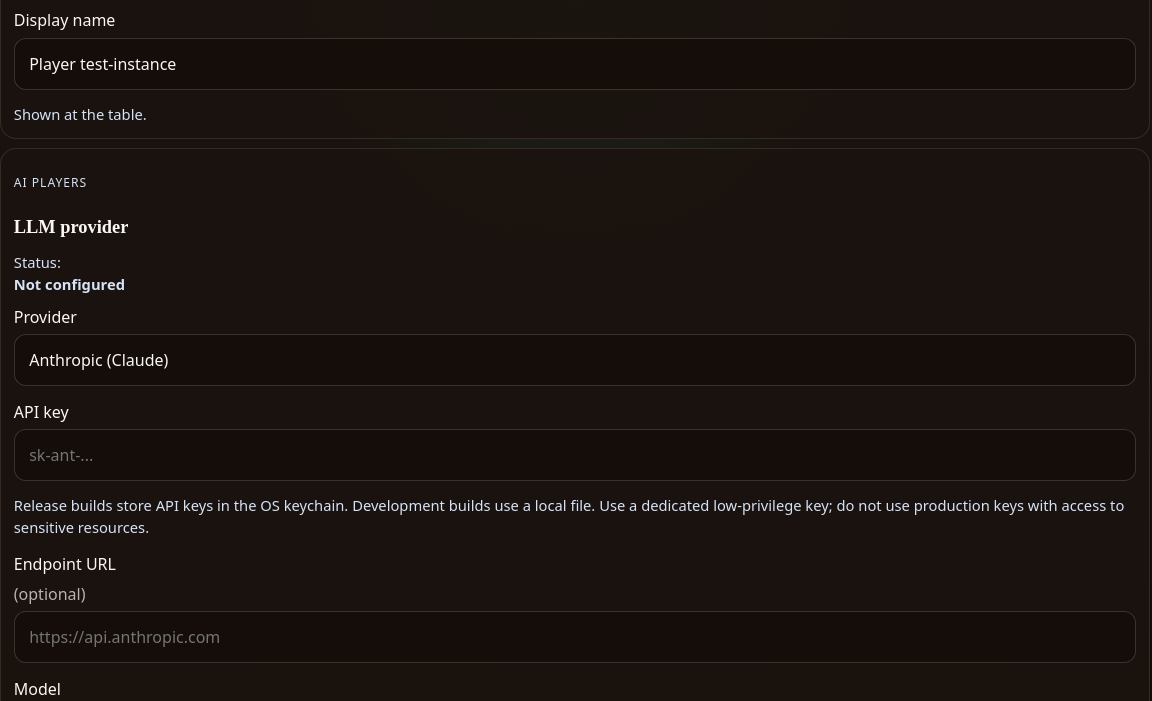
Test: DeviceSettingsScreen › shows error when setLlmProviderConfig fails
(page scrolled)
Use ollama (no api key needed) so Save is not disabled.
Select "Ollama (local)" in the dropdown named "LLM provider" at (575, 360), box left=14, top=334, right=1136, bottom=386
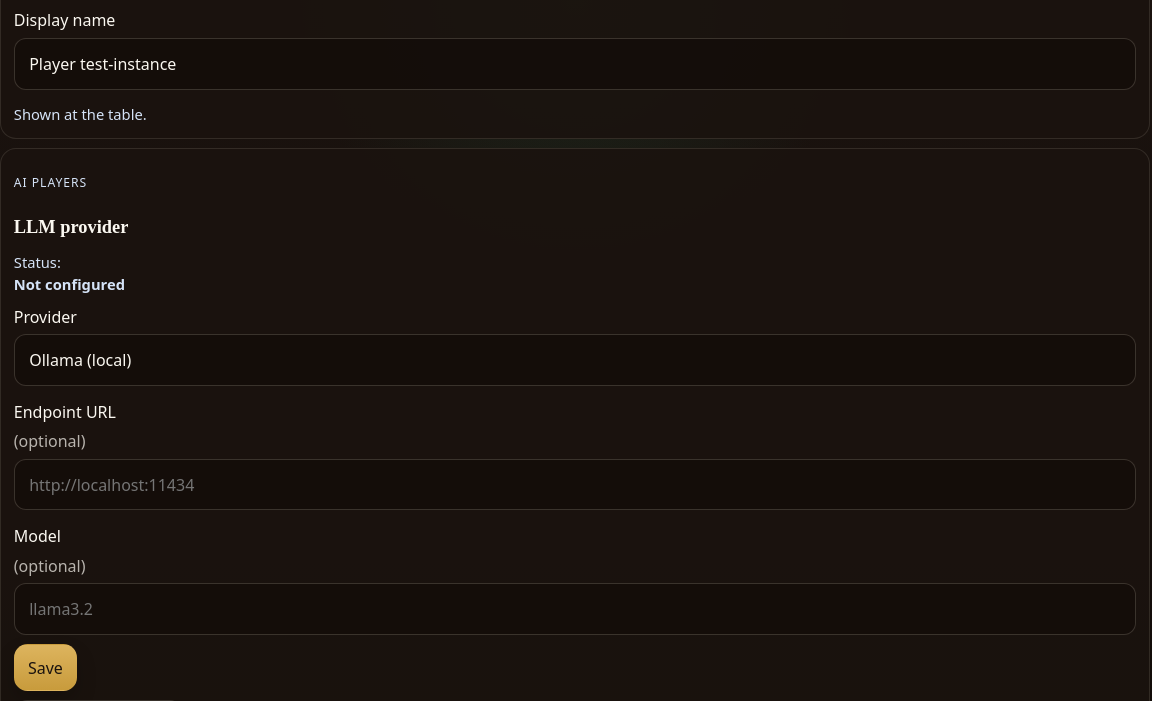
Click the button "Save" at (45, 668), box left=14, top=644, right=77, bottom=691
(page scrolled)
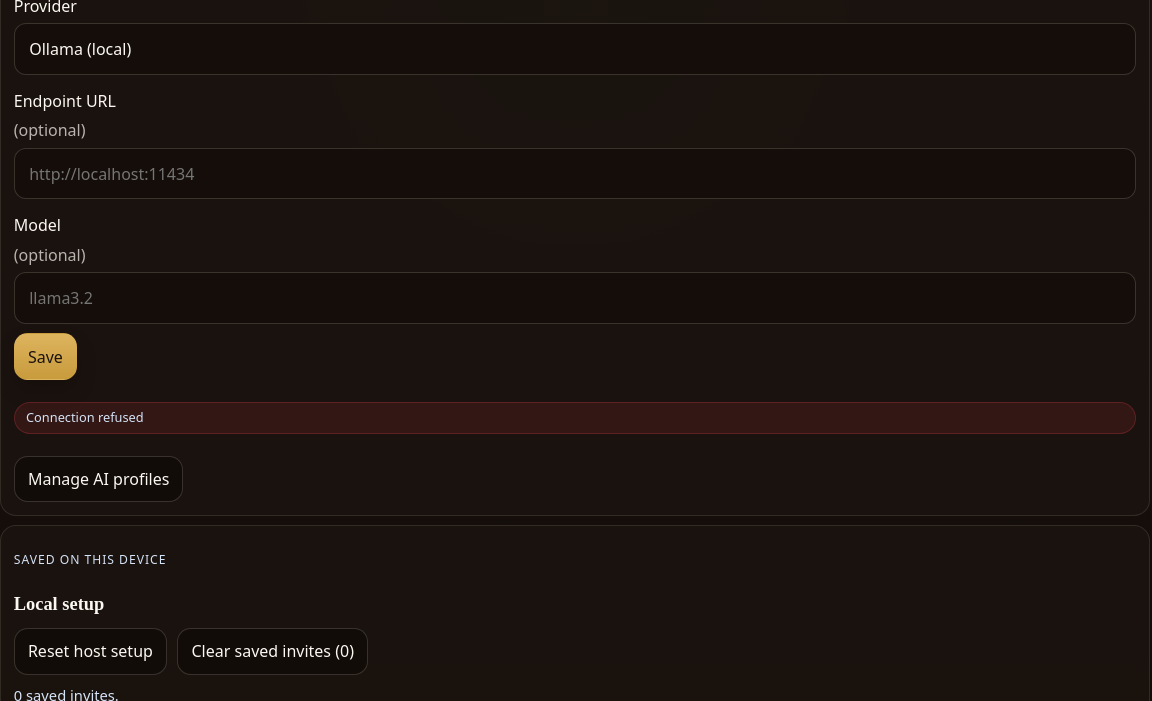
Check: the text "Connection refused" is shown, box left=14, top=402, right=1136, bottom=434
